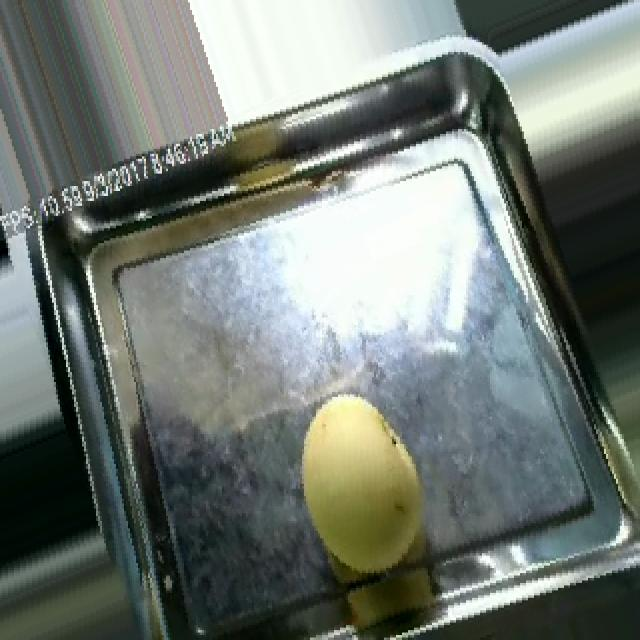Fruit: (272, 372, 470, 605)
